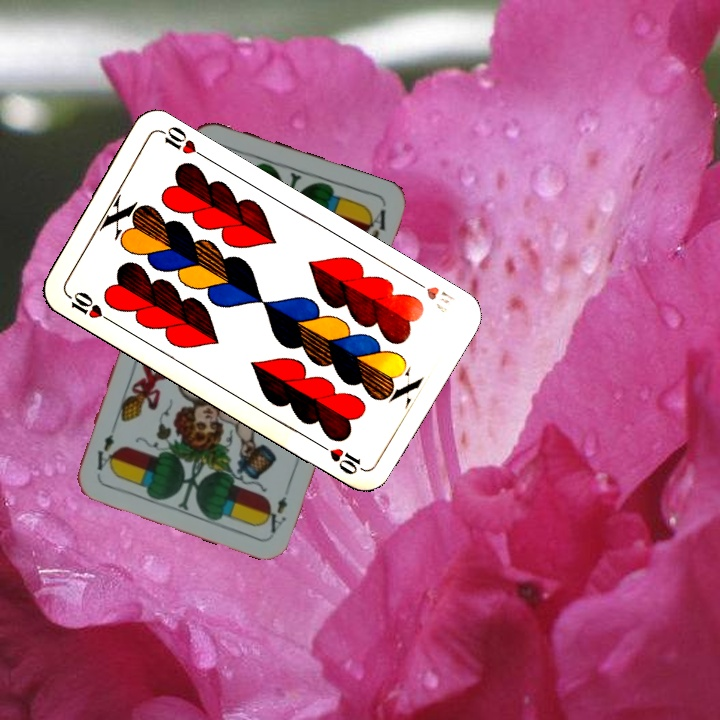EA: (259, 479, 293, 536)
H10: (61, 287, 114, 325), (407, 274, 458, 307)
